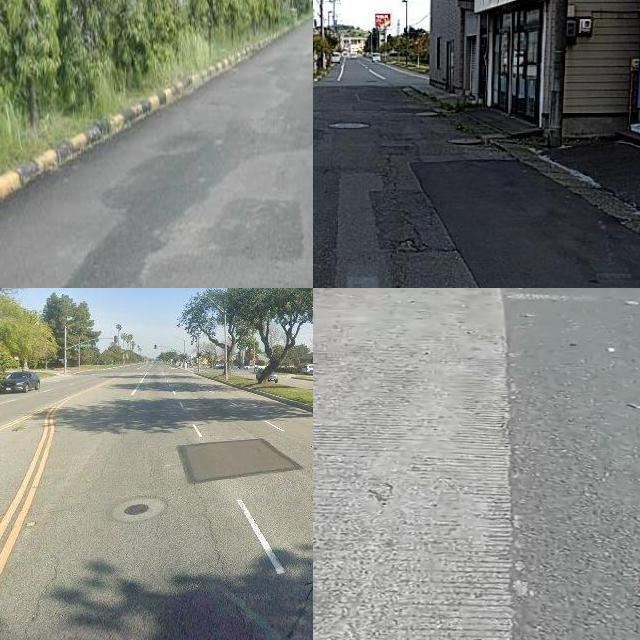Sambungan: (313, 288, 518, 640), (415, 159, 640, 288), (178, 434, 304, 489), (195, 198, 305, 259)
